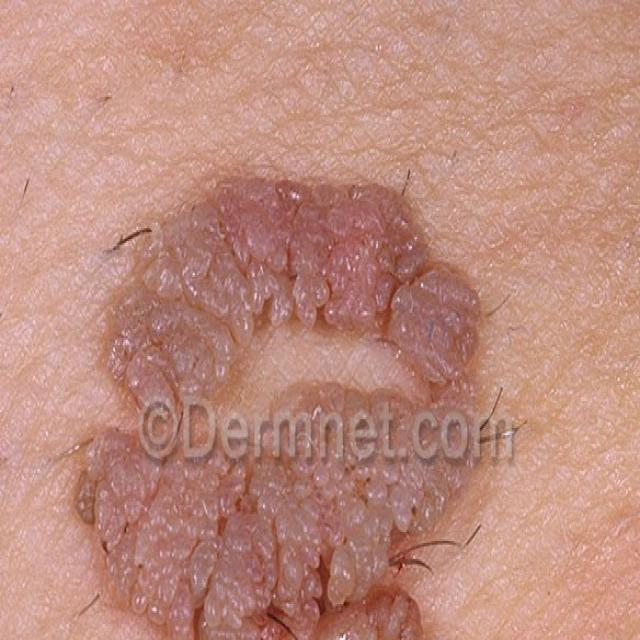Warts: (71, 181, 529, 640)
